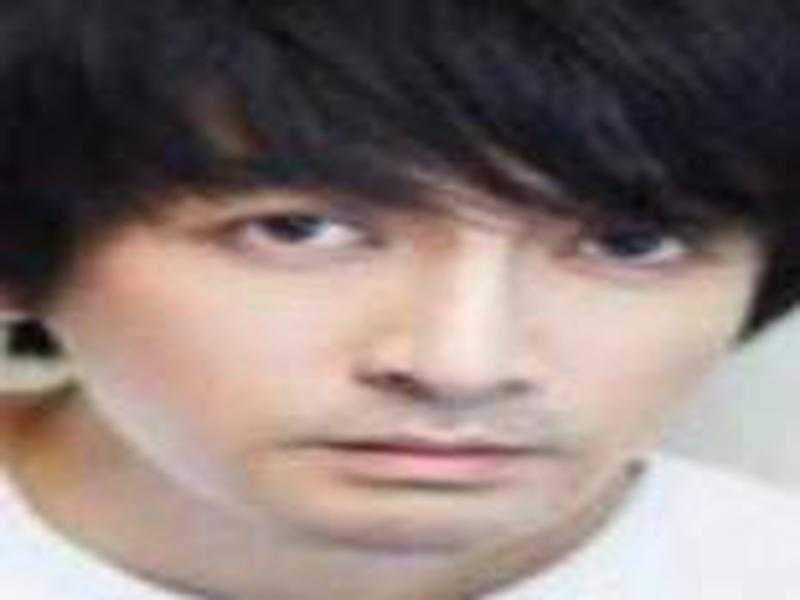without_mask: (59, 108, 765, 563)
